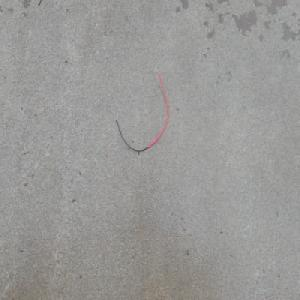Wire: (111, 65, 170, 154)
